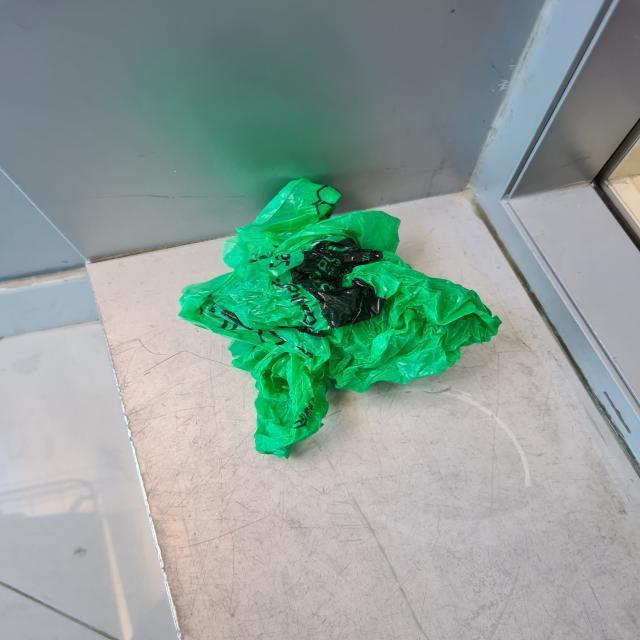Plastic_Bag: (172, 178, 511, 453)
